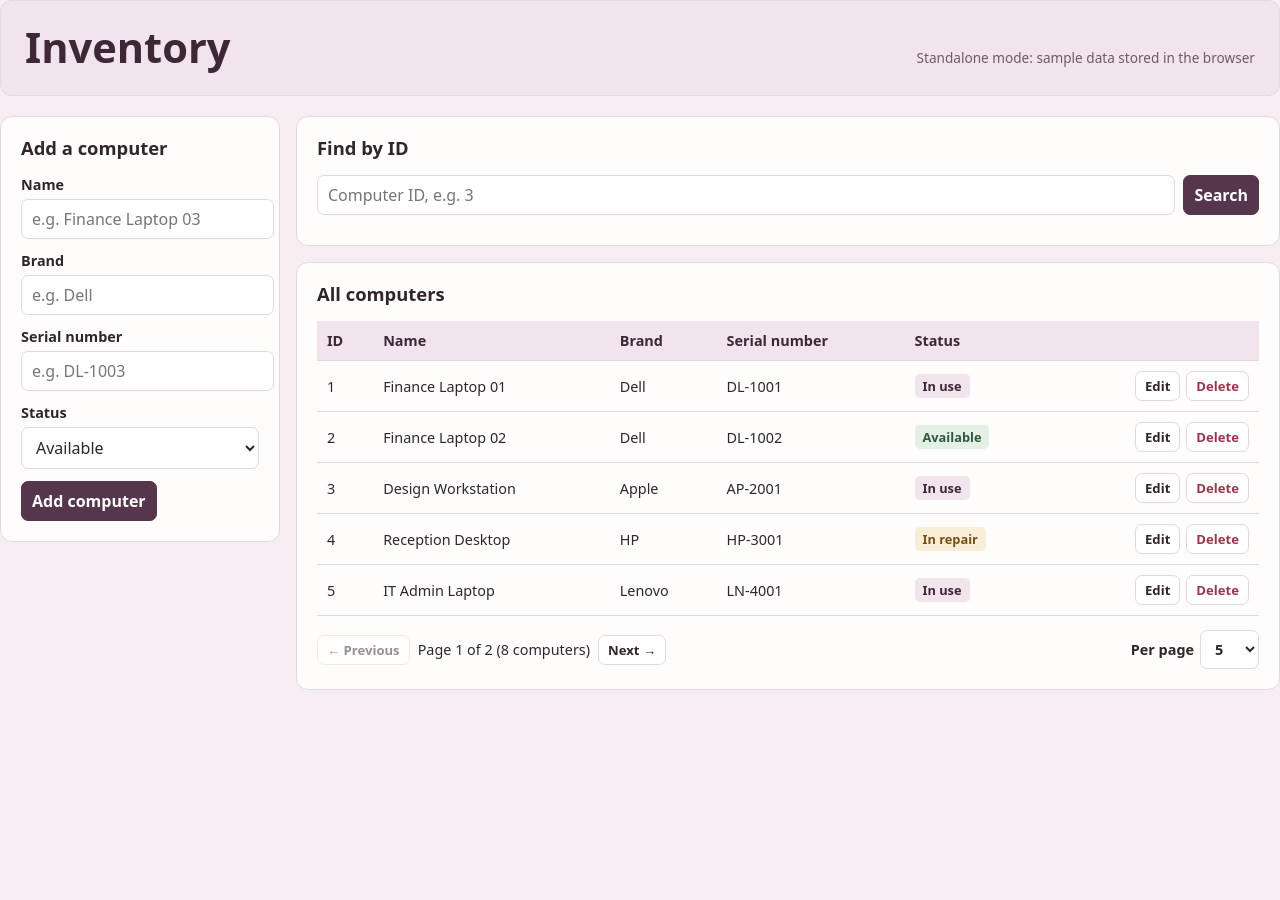
Test: Inventory page (standalone mode) › deletes a computer after confirmation
This screenshot has width=1280, height=900.
Click the button with aria-label "Delete Finance Laptop 01".
click(1218, 386)  # box [1186,371,1249,401]
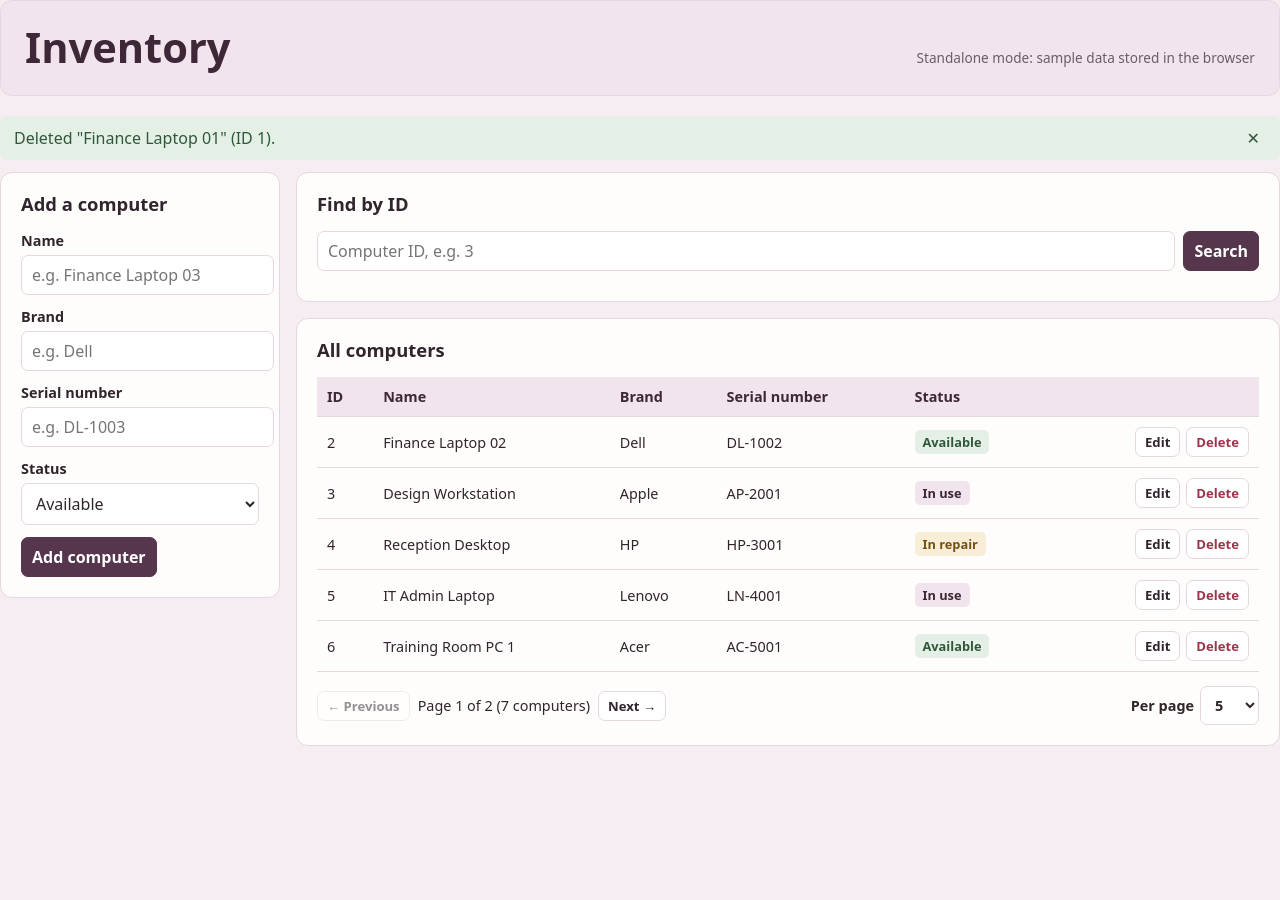
Expected: the message shows "Deleted \"Finance Laptop 01\" (ID 1).", [14,127,275,149]
Expected: the text "Page 1 of 2 (7 computers)" is shown, [418,696,590,715]
